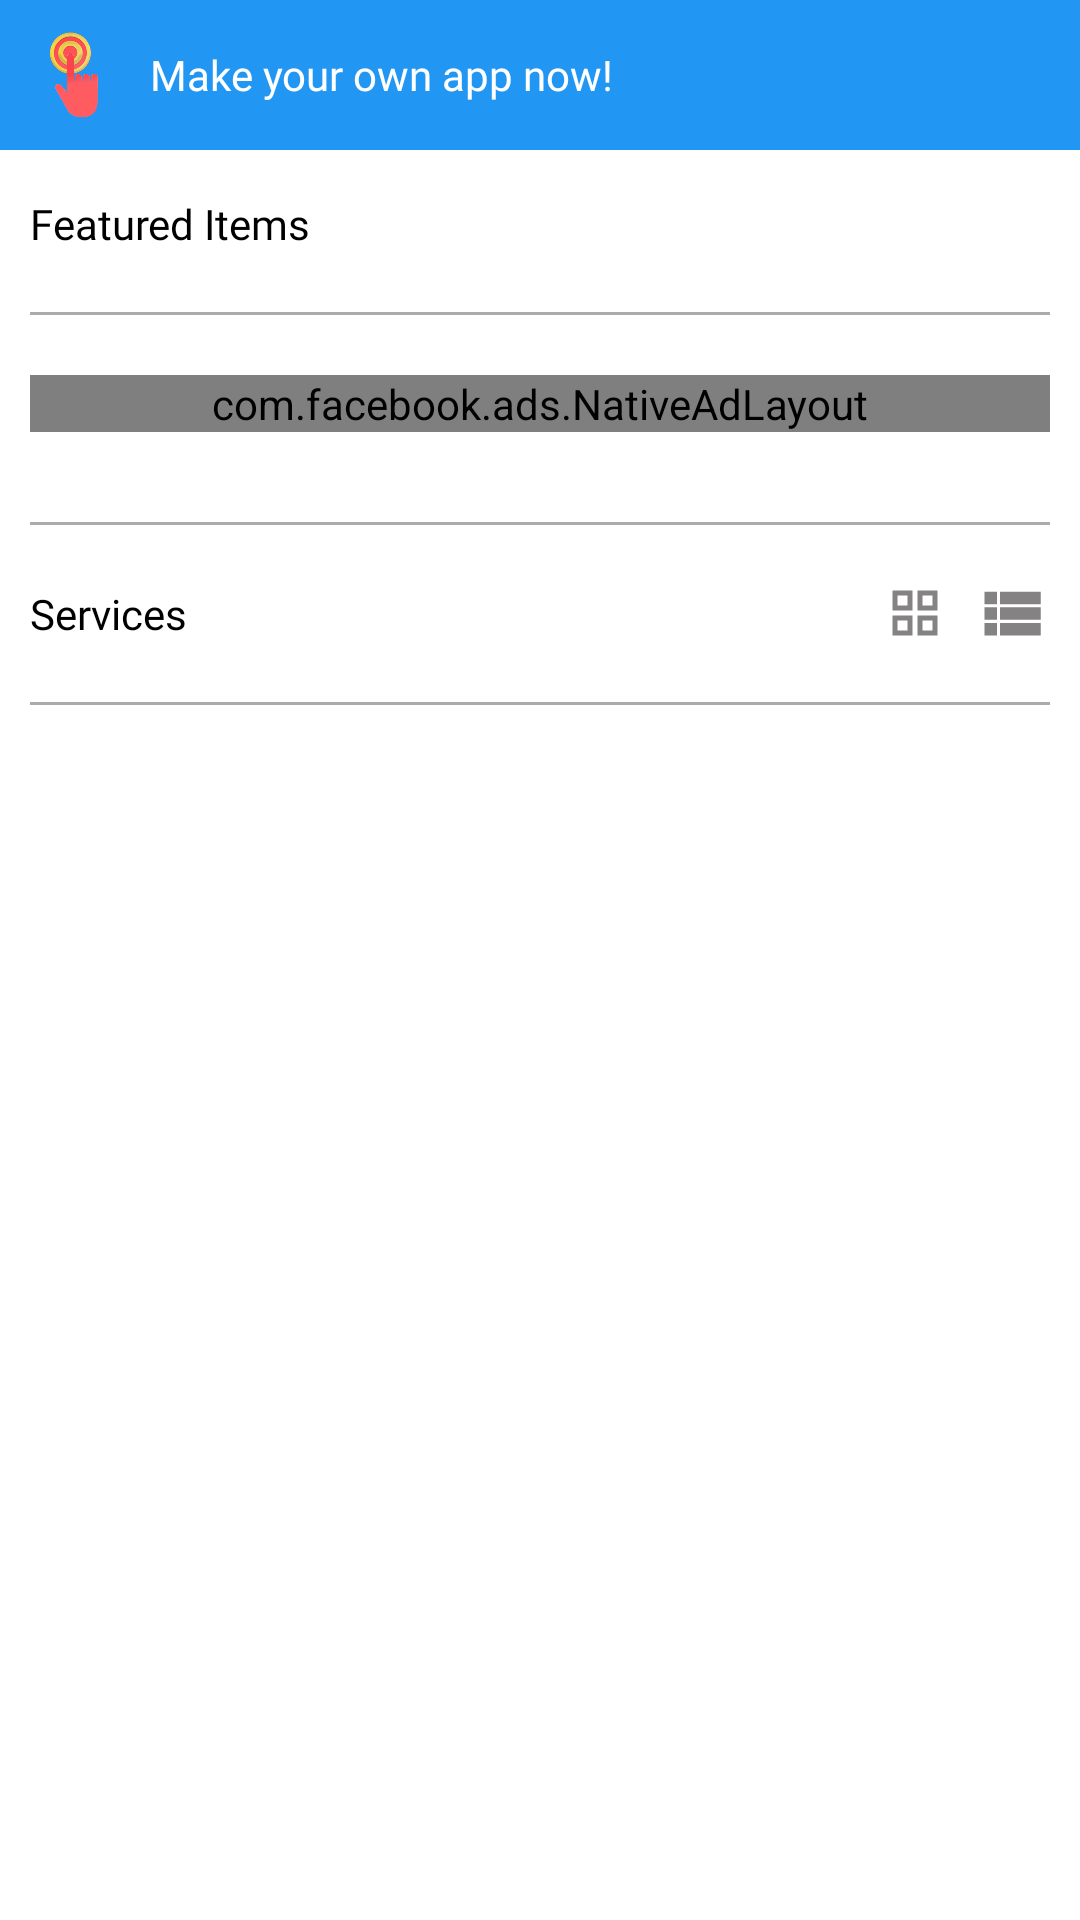

Icons on this 1080px×1920px Android screen, each with its box as (x1, y1, x2, y2):
grid view: (892, 590, 938, 636)
list view: (984, 591, 1041, 636)
